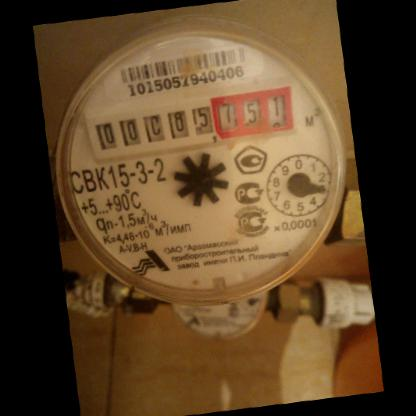digital_screen: (87, 92, 216, 162)
